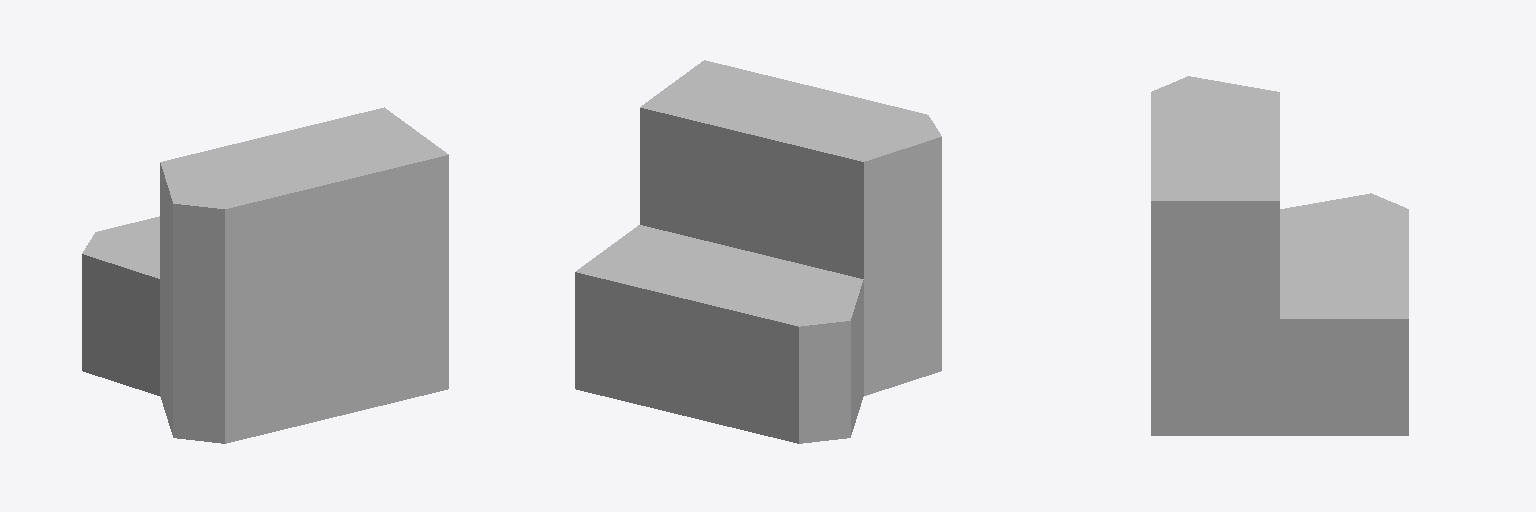
The model's file is spirstax_3r.obj.
3 views of the same model, side by side, from view 1: azimuth 30°, elevation 25°; view 2: azimuth 150°, elevation 25°; view 3: azimuth 270°, elevation 25° (orthographic).
Size of the model in its own units: 1.15 by 1 by 1.